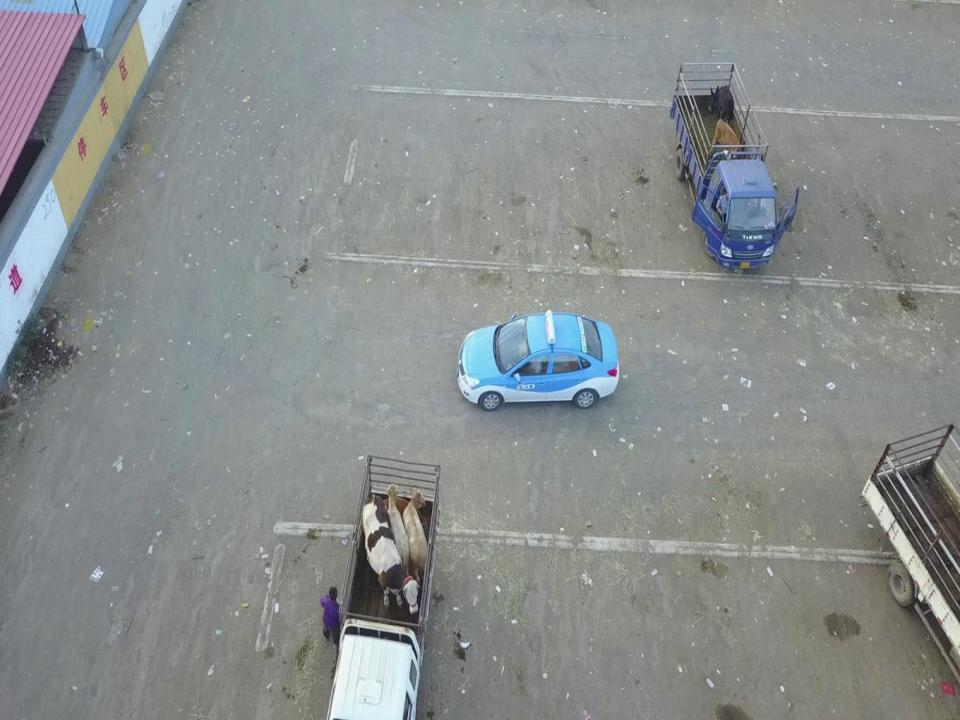car: (455, 310, 622, 412)
truck: (316, 446, 442, 720), (665, 58, 802, 275), (857, 419, 960, 689)
